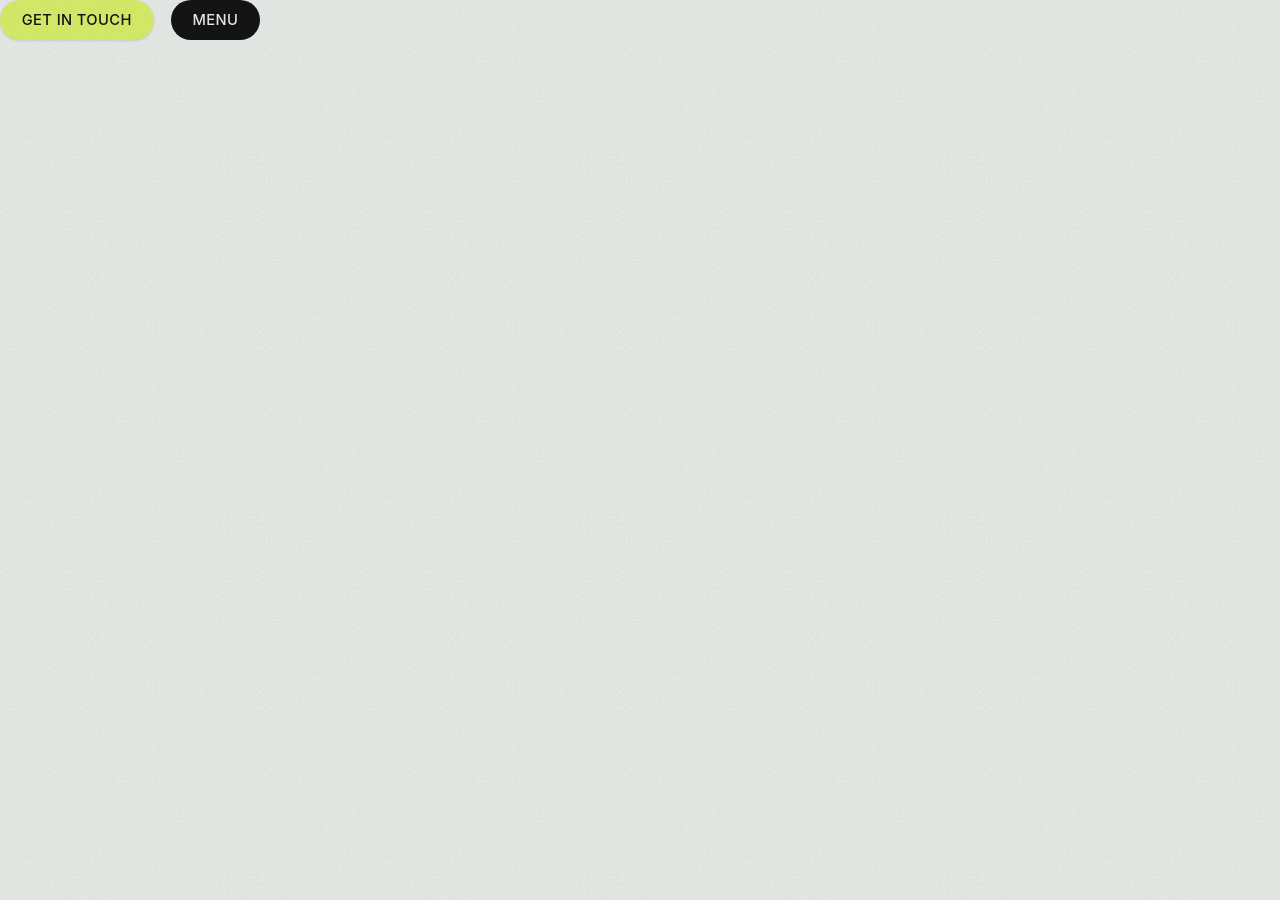
full-screen menu › closes on Escape from anywhere and returns focus to the button
The image size is (1280, 900).
Click the button "Menu" at (215,20), box 171,0 -> 260,40
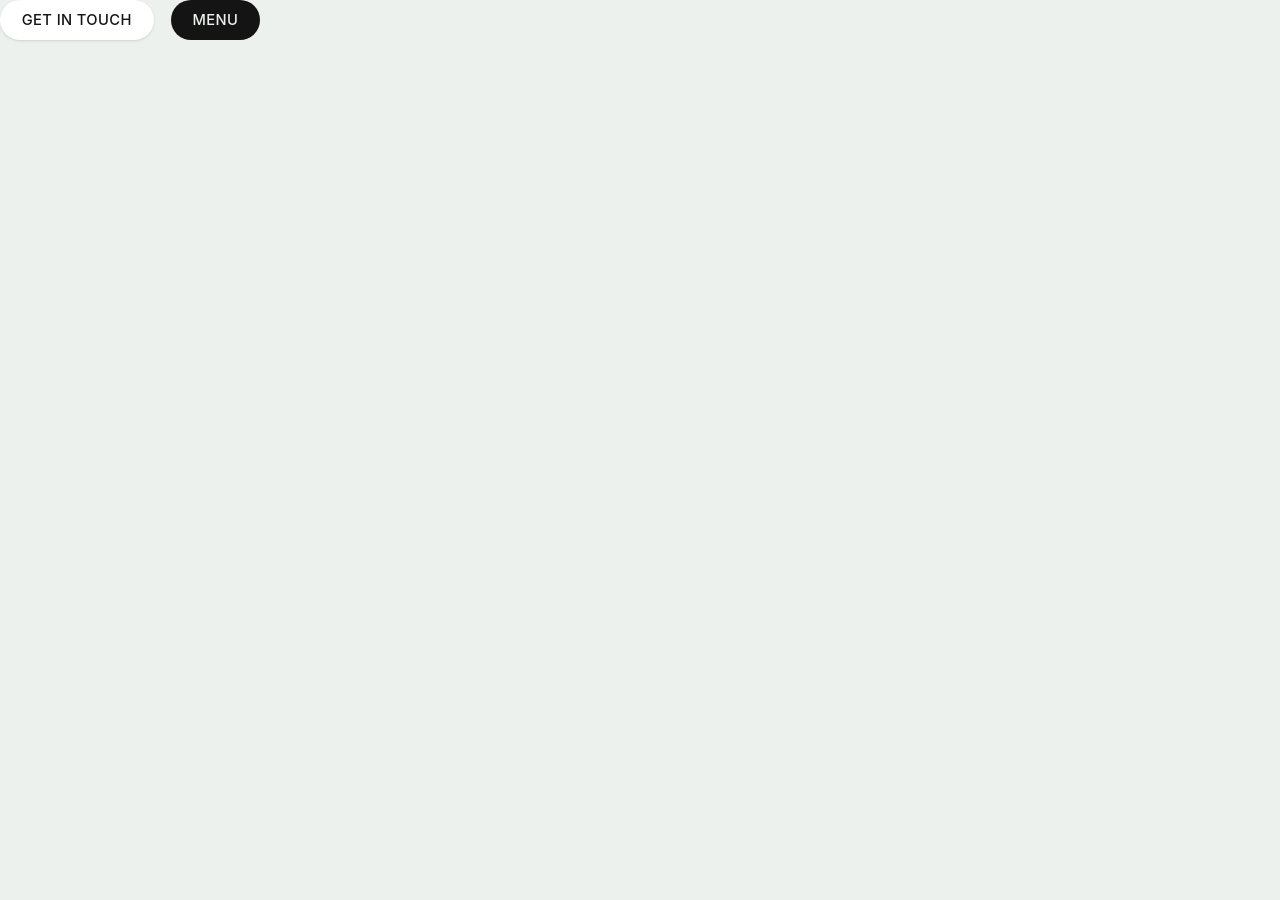
Press Escape
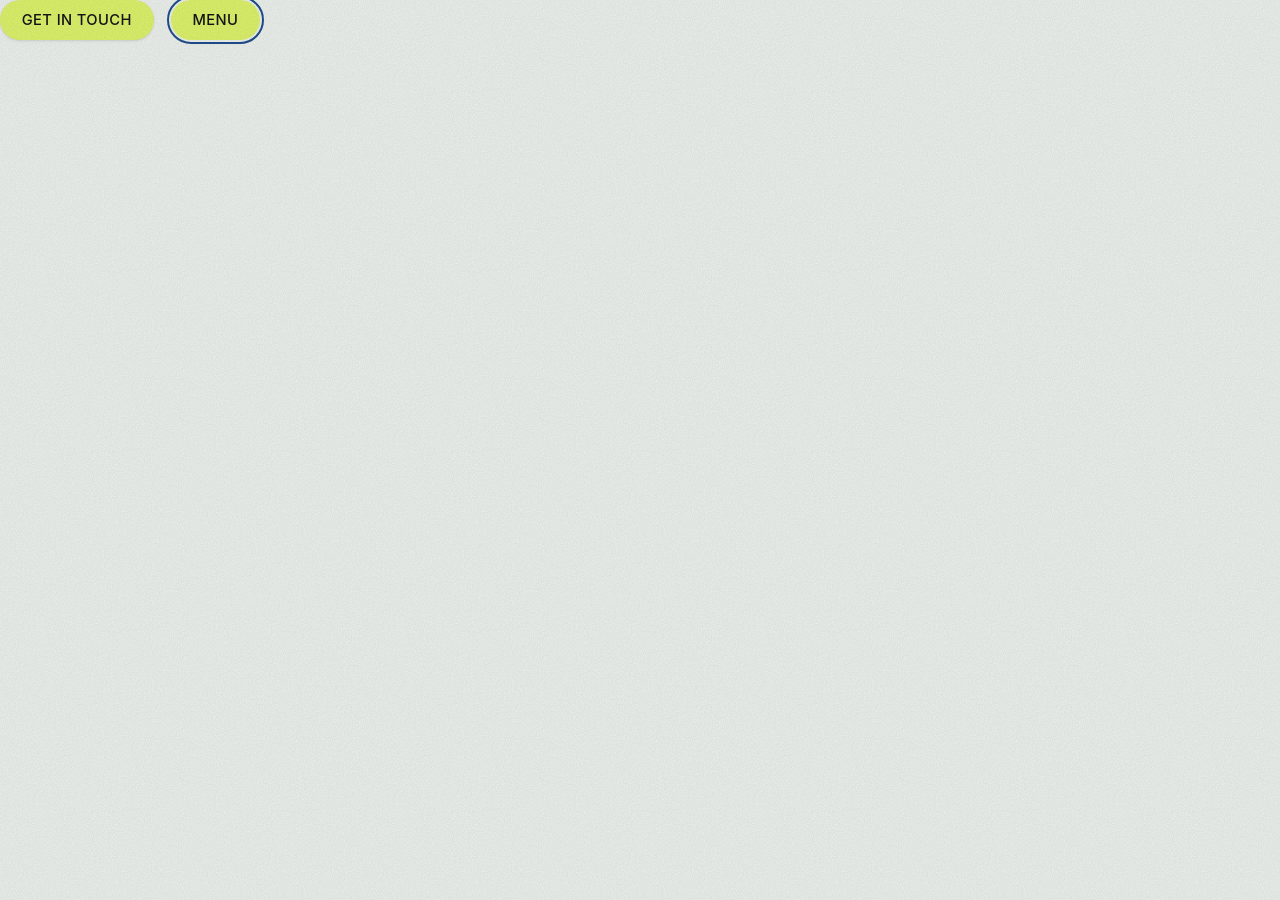
Expected: the button "Menu" is collapsed, 171,0 -> 260,40
